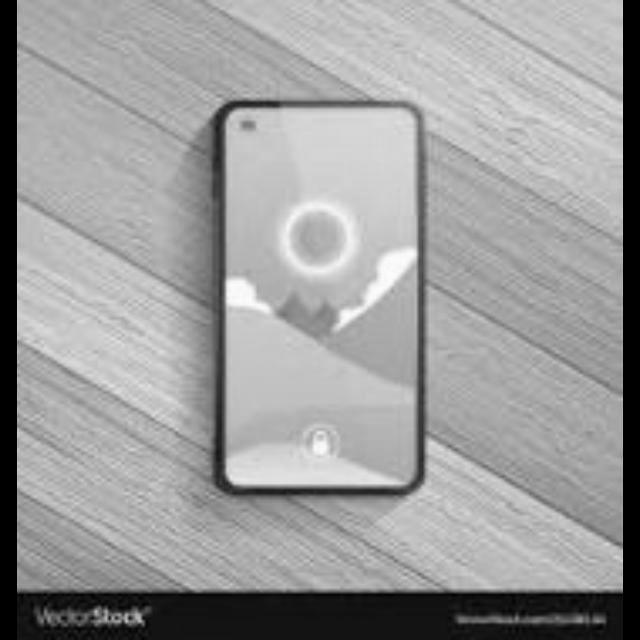fake: (179, 80, 465, 525)
